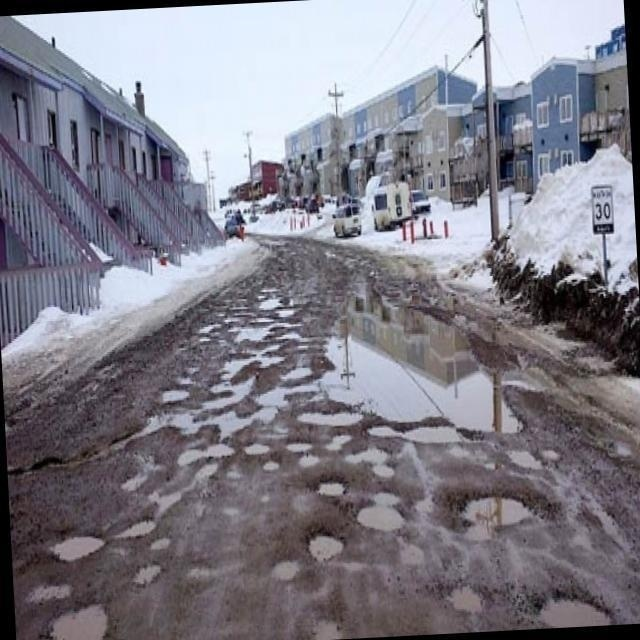pothole: (200, 332, 590, 457), (122, 460, 172, 597), (530, 570, 605, 629), (458, 476, 532, 530), (47, 514, 103, 573), (50, 604, 115, 640), (446, 576, 488, 618), (354, 496, 402, 532), (307, 466, 348, 506), (306, 528, 346, 564)
